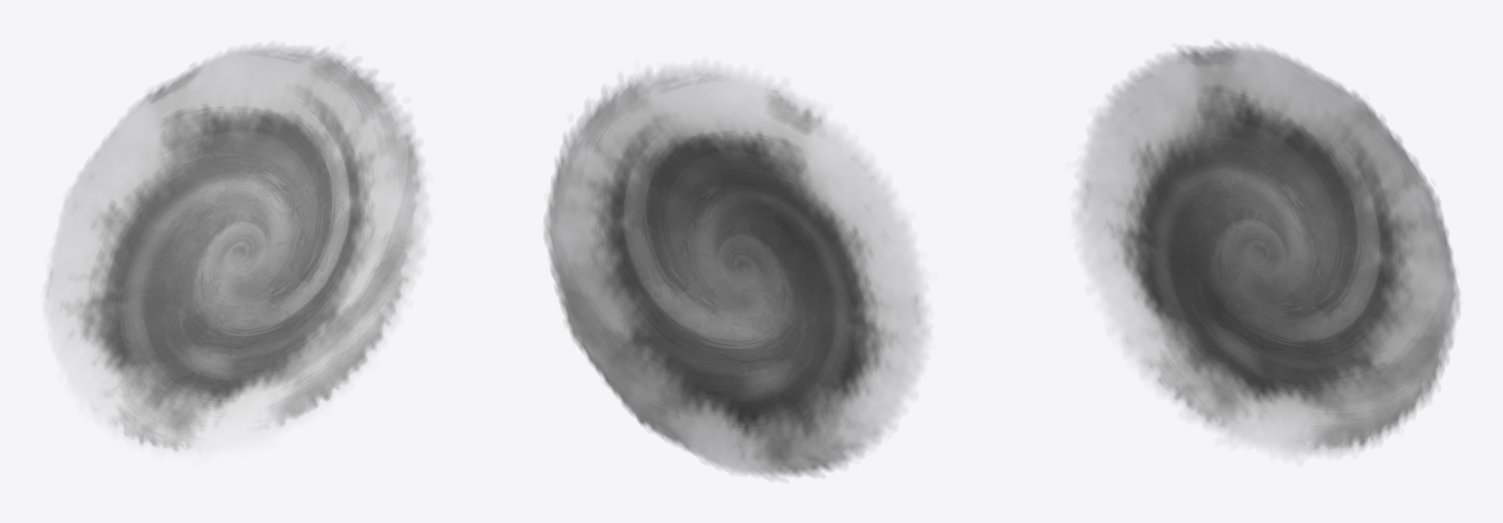
File: PortalEffect01.glb
3 renders of one model, left to right at view 1: azimuth 30°, elevation 25°; view 2: azimuth 150°, elevation 25°; view 3: azimuth 330°, elevation 25°, orthographic.
Parts seen in each view (by area): view 1: PortalEffect01; view 2: PortalEffect01; view 3: PortalEffect01.
Part boxes in pixels (x1,y1,x2,y2): PortalEffect01: [43, 43, 430, 462]; PortalEffect01: [544, 61, 930, 480]; PortalEffect01: [1073, 41, 1459, 462].
Bounding box in the file's own units: 8.96 × 8.96 × 0.7112.
Materials: 1 (1 with a texture image).
